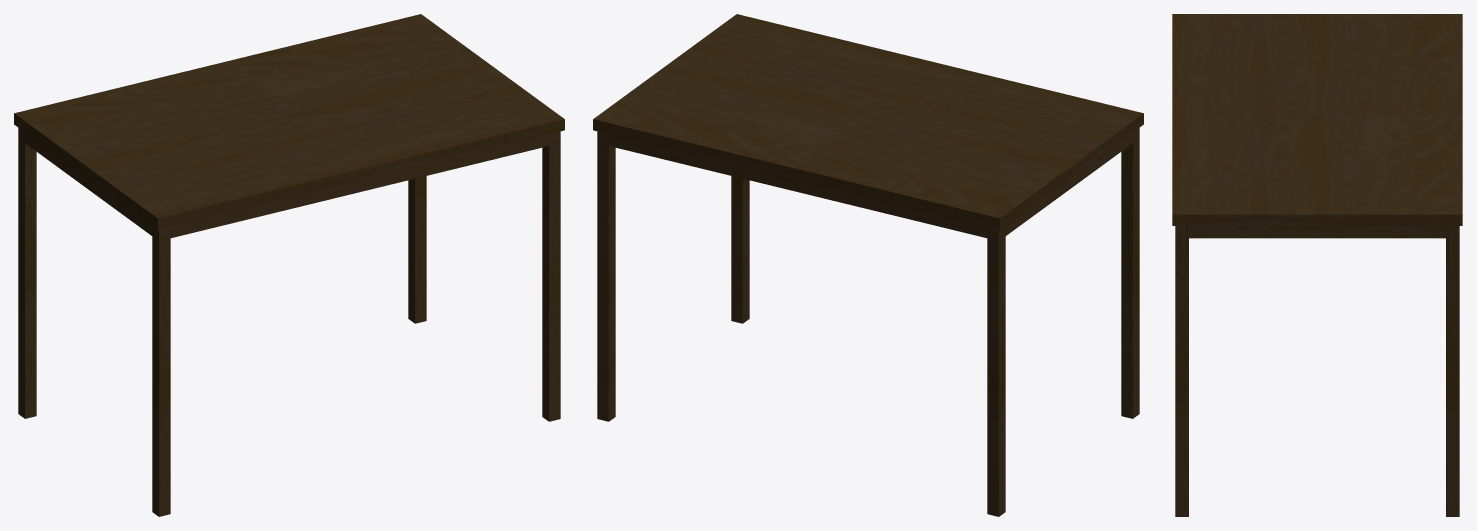
File: sandsberg_table.glb
3 renders of one model, left to right at view 1: azimuth 30°, elevation 25°; view 2: azimuth 150°, elevation 25°; view 3: azimuth 270°, elevation 25°, orthographic.
Visible parts, largest first — view 1: Cube.018, Cube.017, Cube.020, Cube.023; view 2: Cube.018, Cube.017, Cube.021, Cube.023; view 3: Cube.018, Cube.017, Cube.022.
Part boxes in pixels (x1,y1,x2,y2): Cube.018: (14,14,564,229); Cube.017: (18,128,560,516); Cube.020: (170,134,548,237); Cube.023: (25,132,152,235); Cube.018: (593,14,1143,229); Cube.017: (597,128,1139,516); Cube.021: (609,134,987,237); Cube.023: (1005,132,1132,235); Cube.018: (1172,14,1462,225); Cube.017: (1175,226,1459,516); Cube.022: (1189,226,1445,238).
Bounding box in the file's own units: 1.1 × 0.7775 × 0.6743.
Materials: 2 (2 with a texture image).
